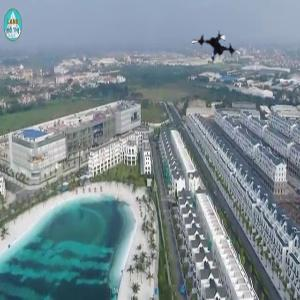drone: (189, 27, 246, 84)
